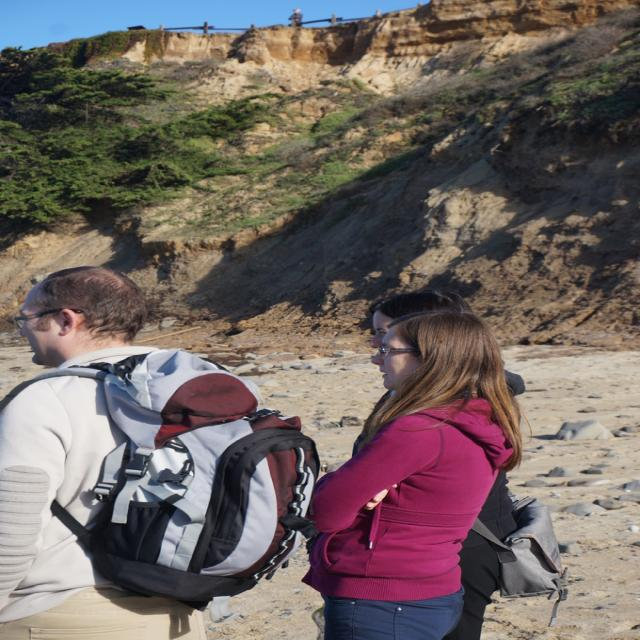backpack: (8, 350, 316, 612)
